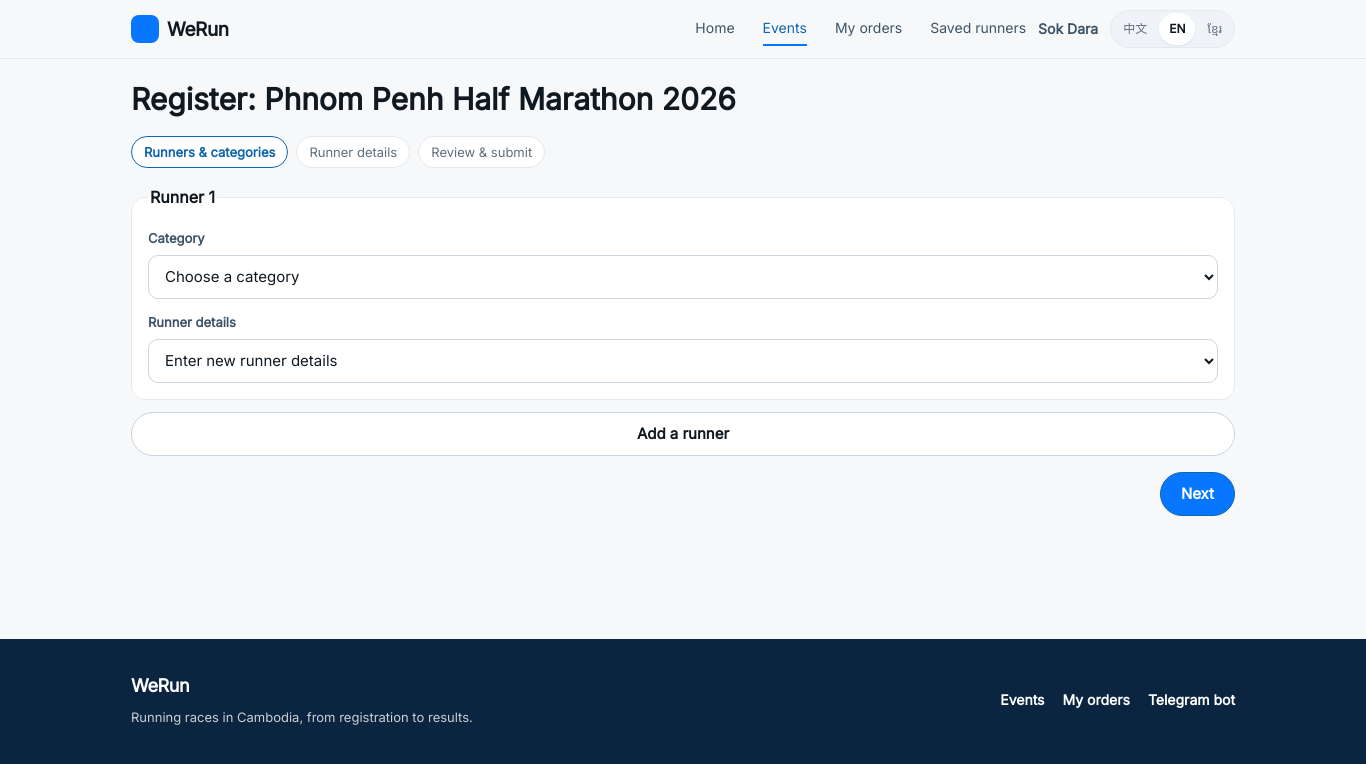
Test case: RegisterPage › 同意书逐项勾选完才能提交
Select "Half marathon" in the dropdown with test id "participant-0-category" at (683, 277), box [148, 255, 1218, 299]
Select "Saved runner: Sok Dara (ID ******5678)" in the dropdown with test id "participant-0-profile" at (683, 361), box [148, 339, 1218, 383]
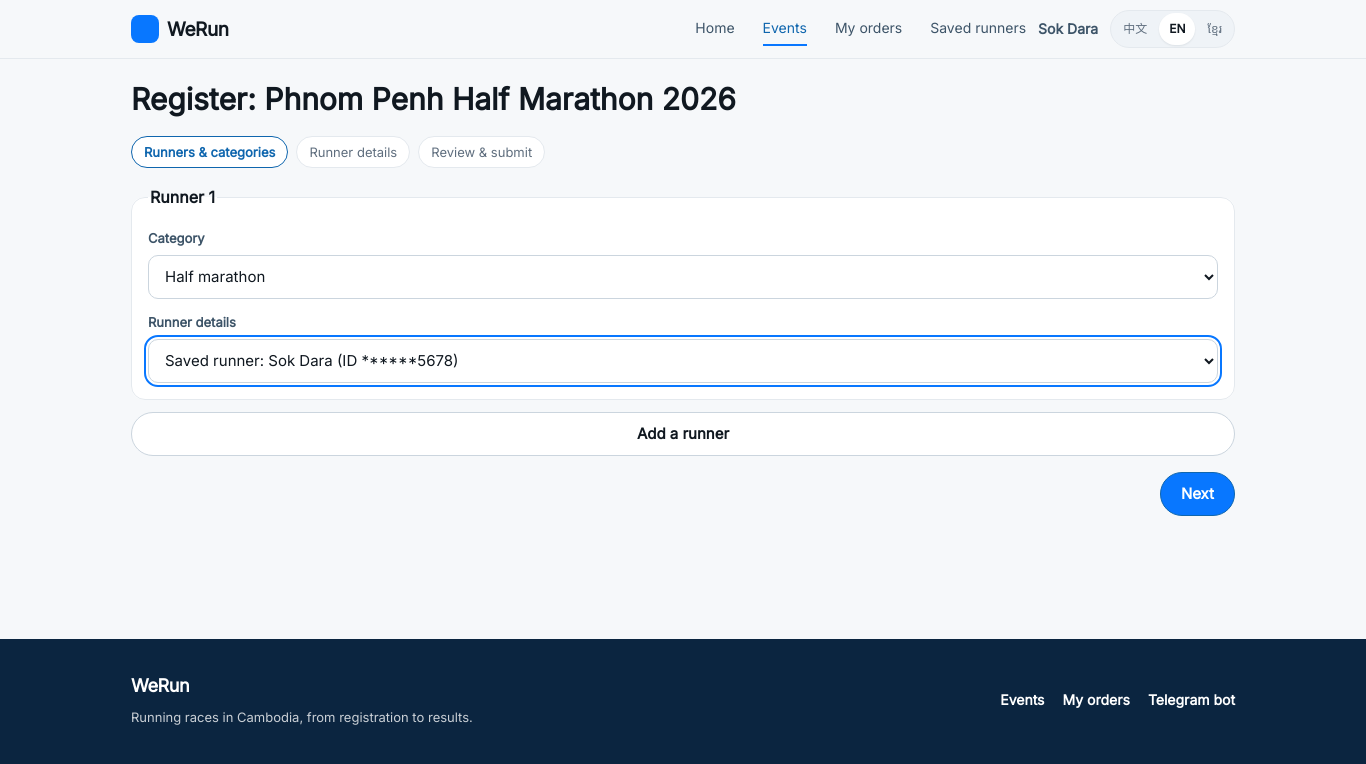
Click the button with test id "wizard-next" at (1197, 494), box [1160, 472, 1235, 516]
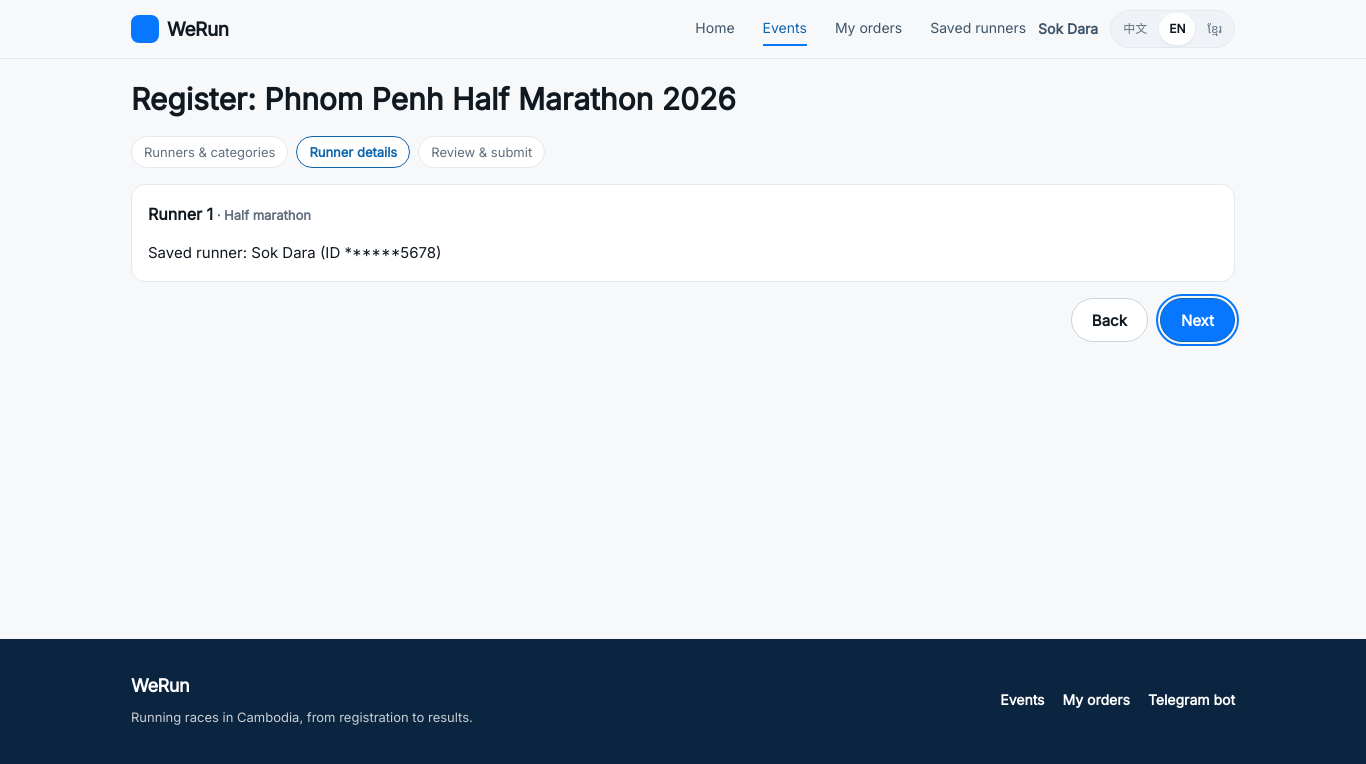
Expected: the element with test id "participant-0-summary" is shown, [131, 184, 1235, 282]
Click the button with test id "wizard-next" at (1197, 320), box [1160, 298, 1235, 342]
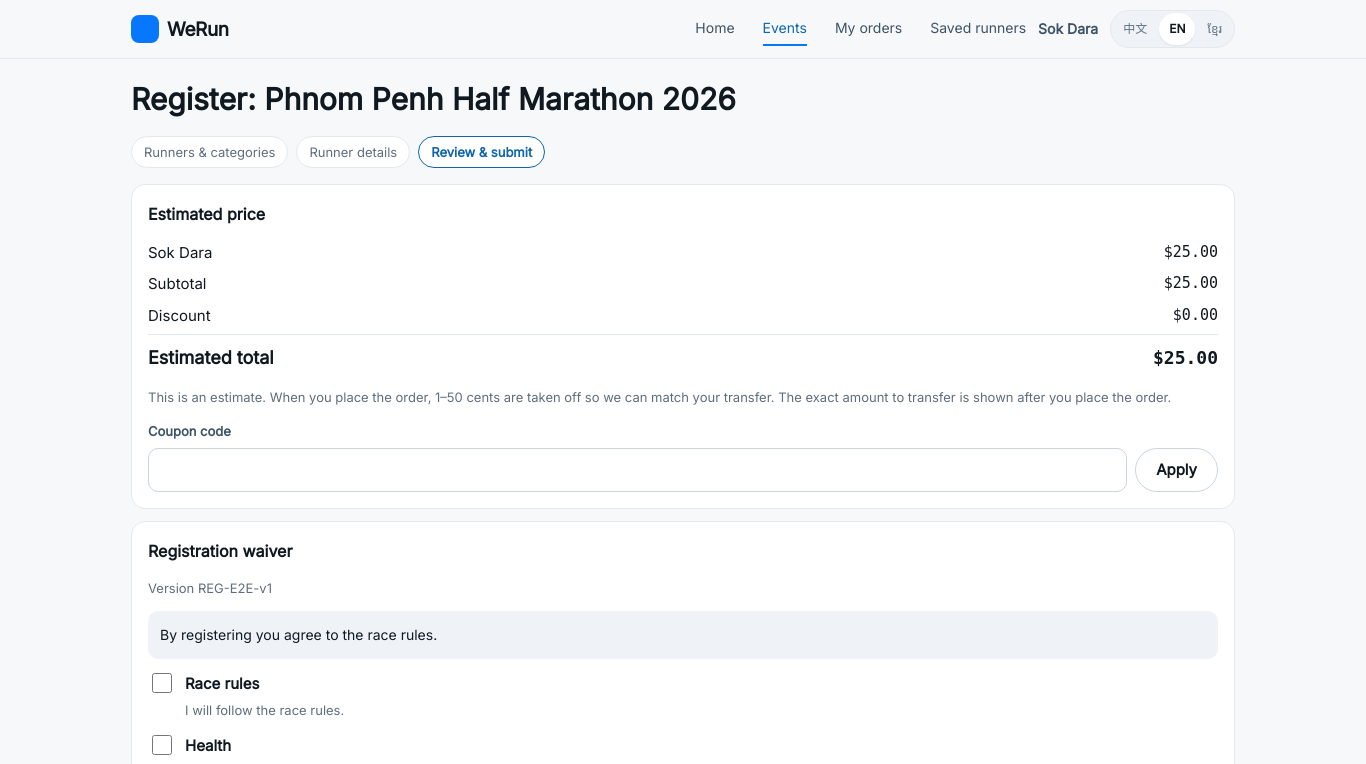
Expected: the text with test id "quote-amount" is shown, [1153, 343, 1218, 374]
Click the checkbox with test id "consent-item-rules" at (162, 683), box [152, 673, 172, 693]
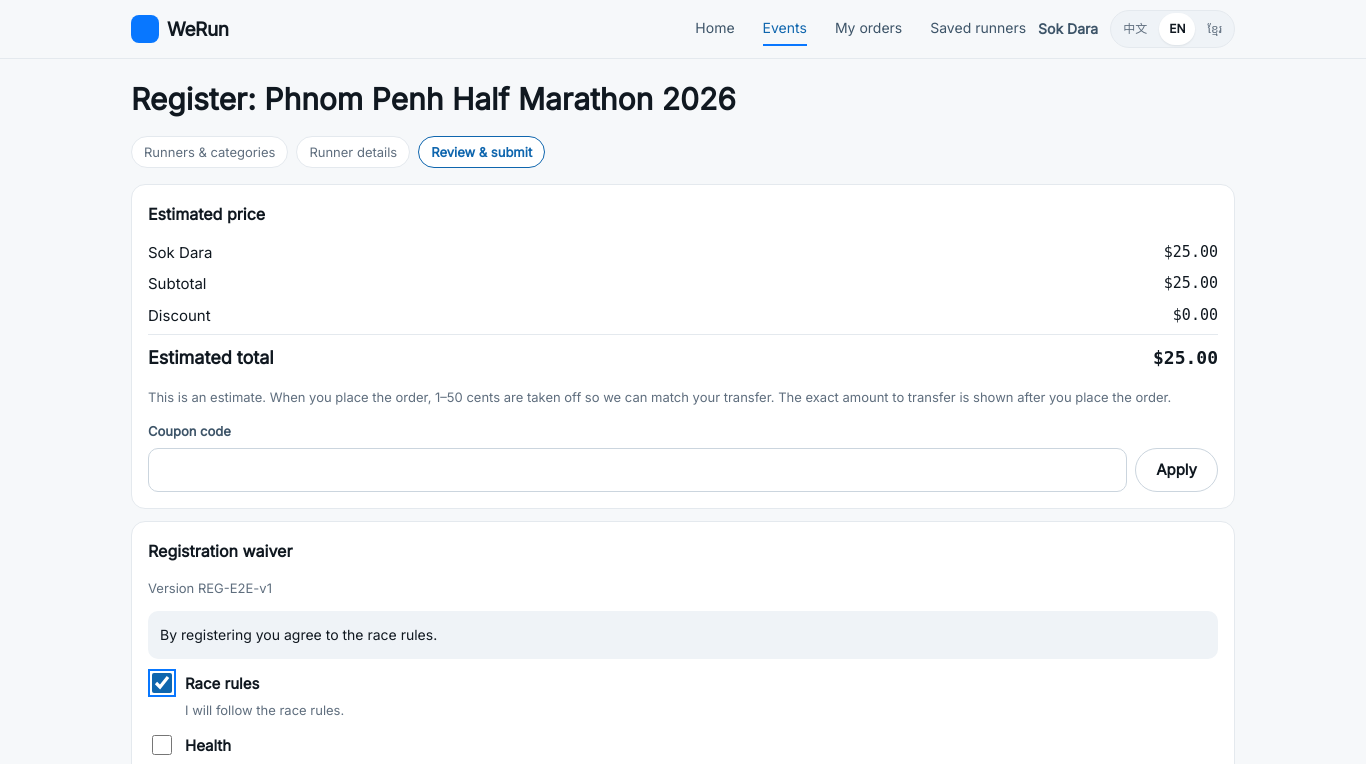
Click the checkbox with test id "consent-item-health" at (162, 745), box [152, 735, 172, 755]
(page scrolled)
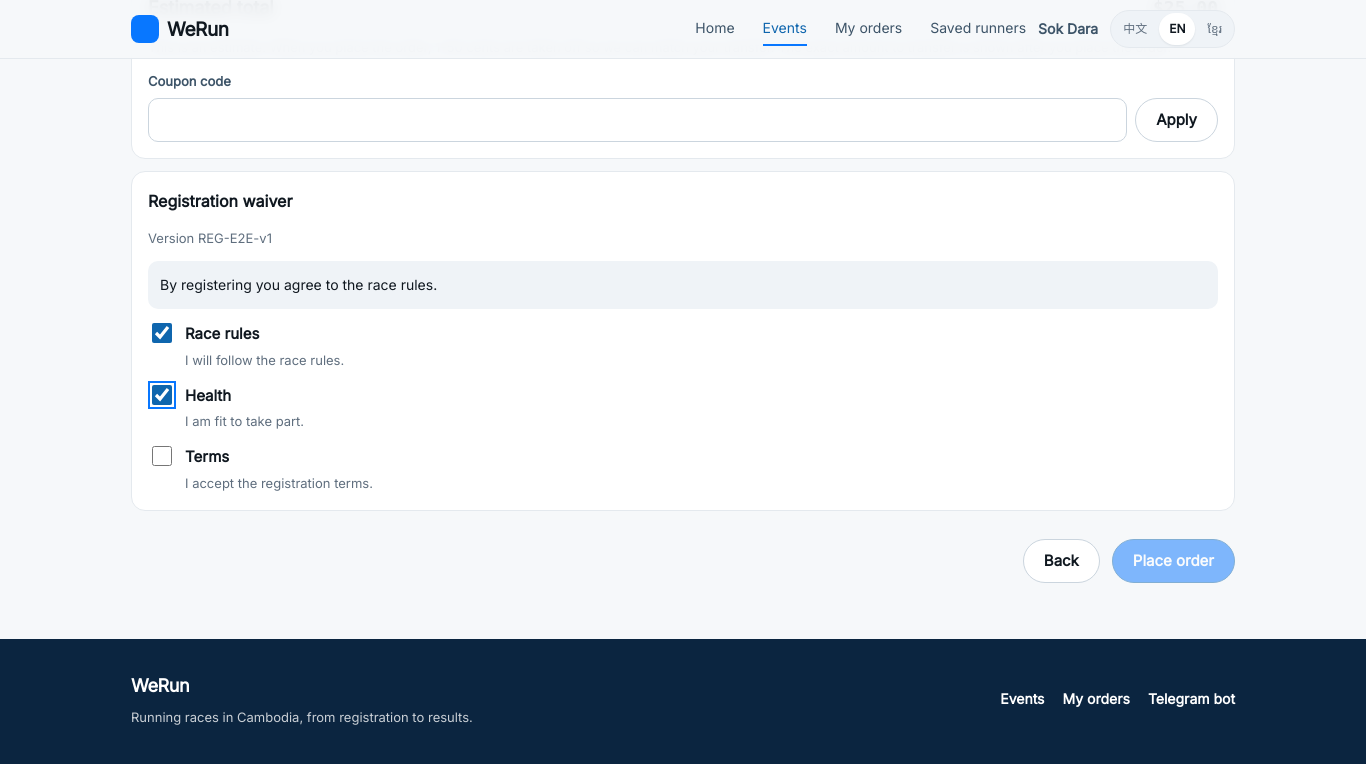
Expected: the button with test id "order-submit" is disabled, [1112, 539, 1235, 583]
Click the checkbox with test id "consent-item-terms" at (162, 456), box [152, 446, 172, 466]
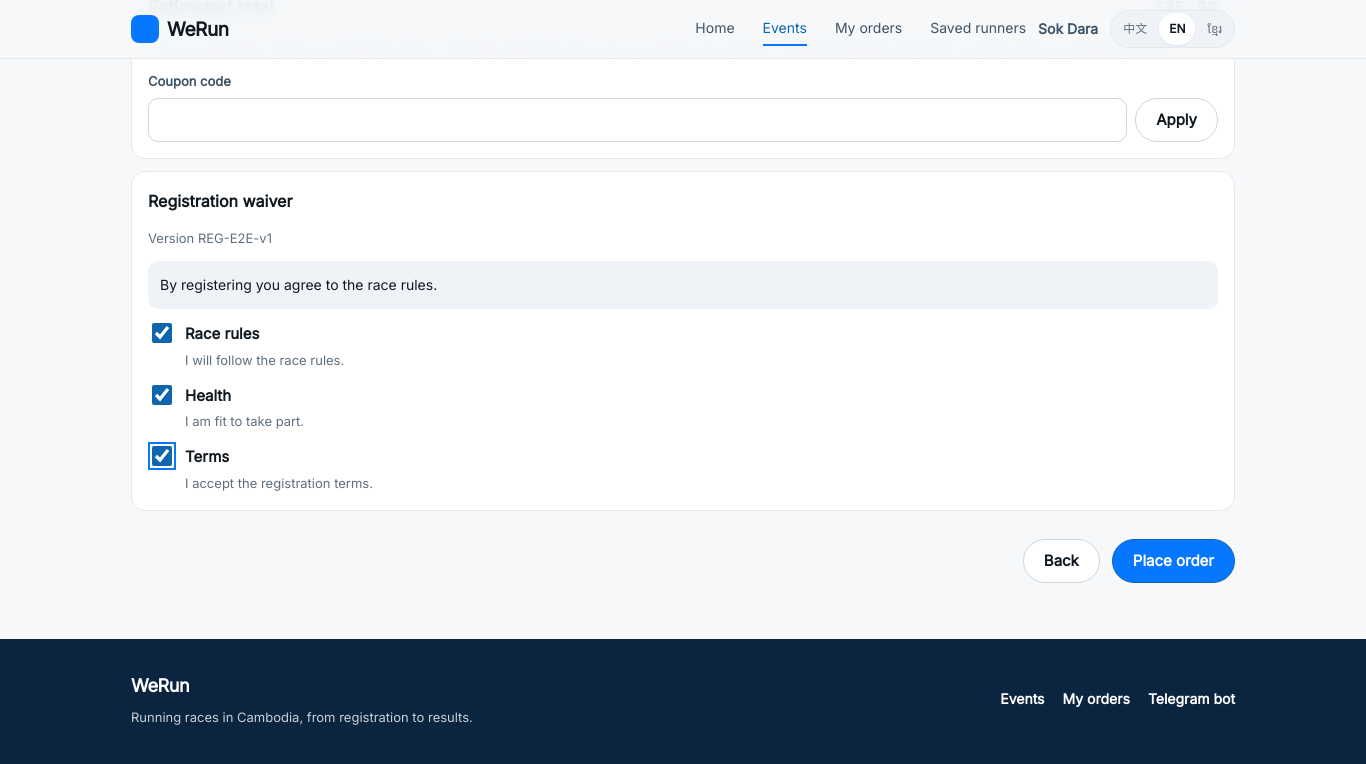
Expected: the button with test id "order-submit" is enabled, [1112, 539, 1235, 583]
